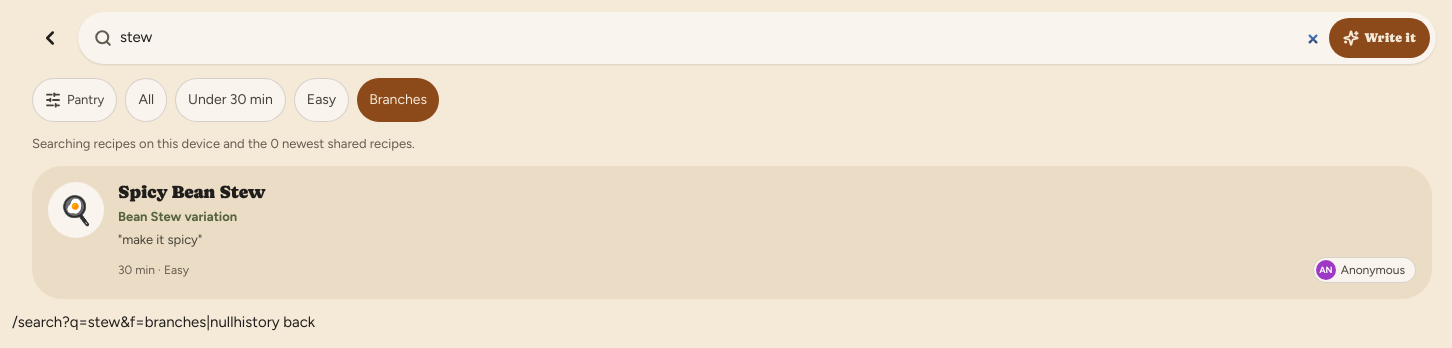
Test: SearchPage › keeps q and f together, and restores both from the URL
Replace the text in the search field named "Search recipes, or describe a dish" with "spicy": coordinates (720, 38) x1=120 y1=26 x2=1321 y2=50
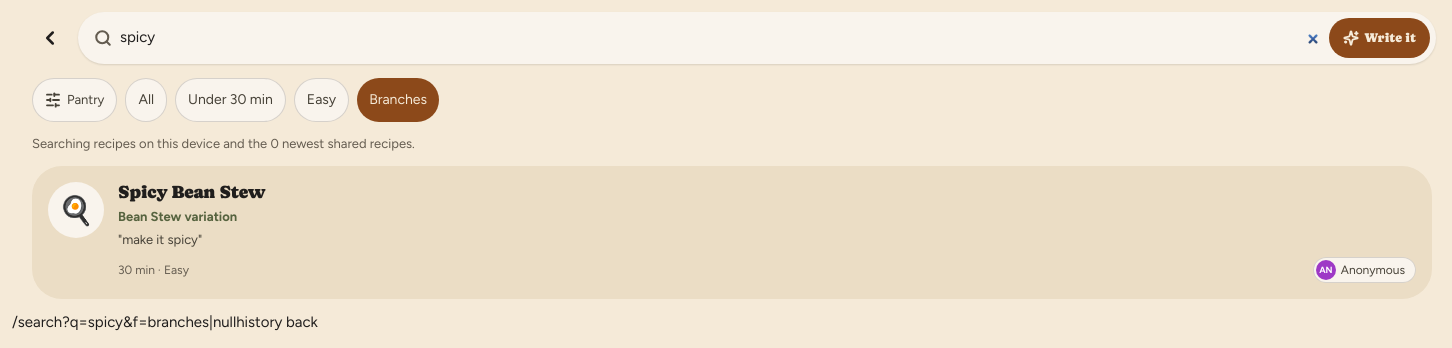
Now the text with test id "probe" shows "/search?q=spicy&f=branches", box x1=12 y1=313 x2=236 y2=331
